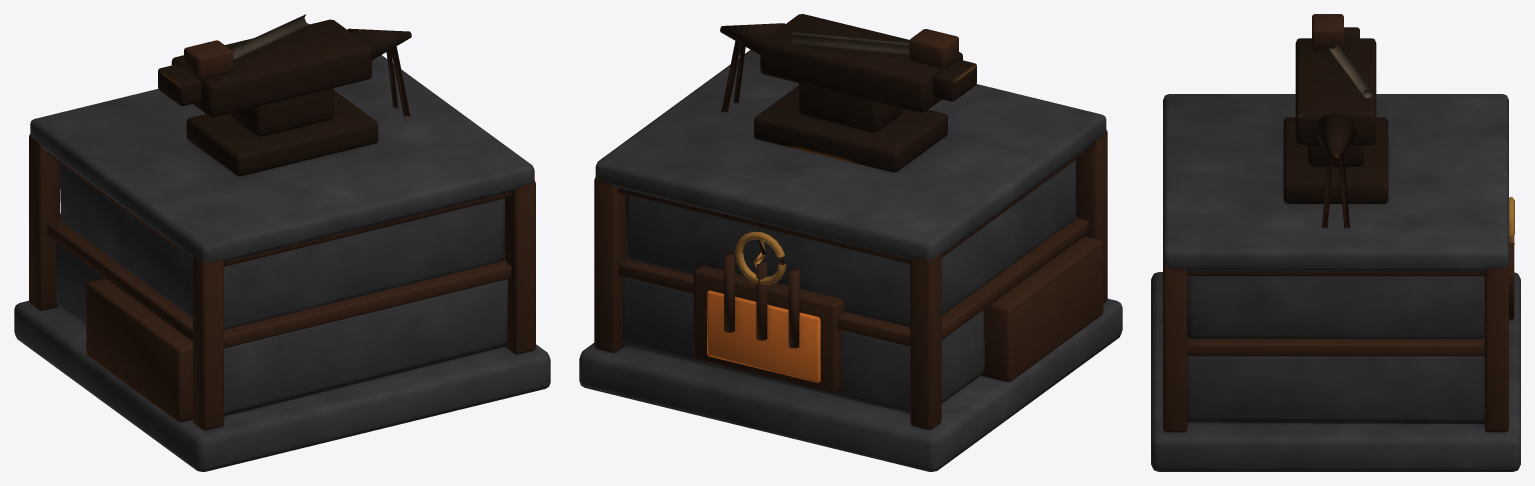
File: gate_forge.obj
3 views of the same model, side by side, from view 1: azimuth 30°, elevation 25°; view 2: azimuth 150°, elevation 25°; view 3: azimuth 270°, elevation 25° (orthographic). The views are drawn at different scales.
Parts seen in each view (by area): view 1: part0, part1, part4, part5; view 2: part0, part1, part4, fire, part5; view 3: part0, part1, part4, part5.
Part boxes in pixels (x1=…): part0: x1=14, y1=55, x2=550, y2=471; part1: x1=29, y1=40, x2=535, y2=430; part4: x1=158, y1=19, x2=411, y2=176; part5: x1=230, y1=14, x2=310, y2=59; part0: x1=579, y1=49, x2=1122, y2=471; part1: x1=594, y1=29, x2=1107, y2=429; part4: x1=720, y1=14, x2=976, y2=172; fire: x1=707, y1=231, x2=820, y2=382; part5: x1=791, y1=32, x2=909, y2=54; part0: x1=1151, y1=94, x2=1520, y2=471; part1: x1=1163, y1=14, x2=1514, y2=432; part4: x1=1283, y1=27, x2=1388, y2=203; part5: x1=1329, y1=42, x2=1373, y2=98.
Bounding box in the file's own units: 1 × 0.91 × 0.92.
